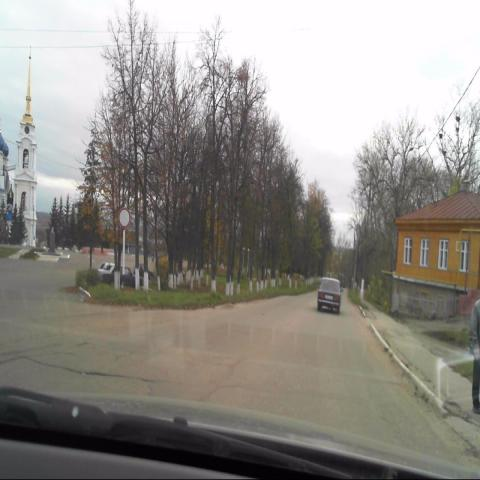3_2: (118, 206, 131, 229)
